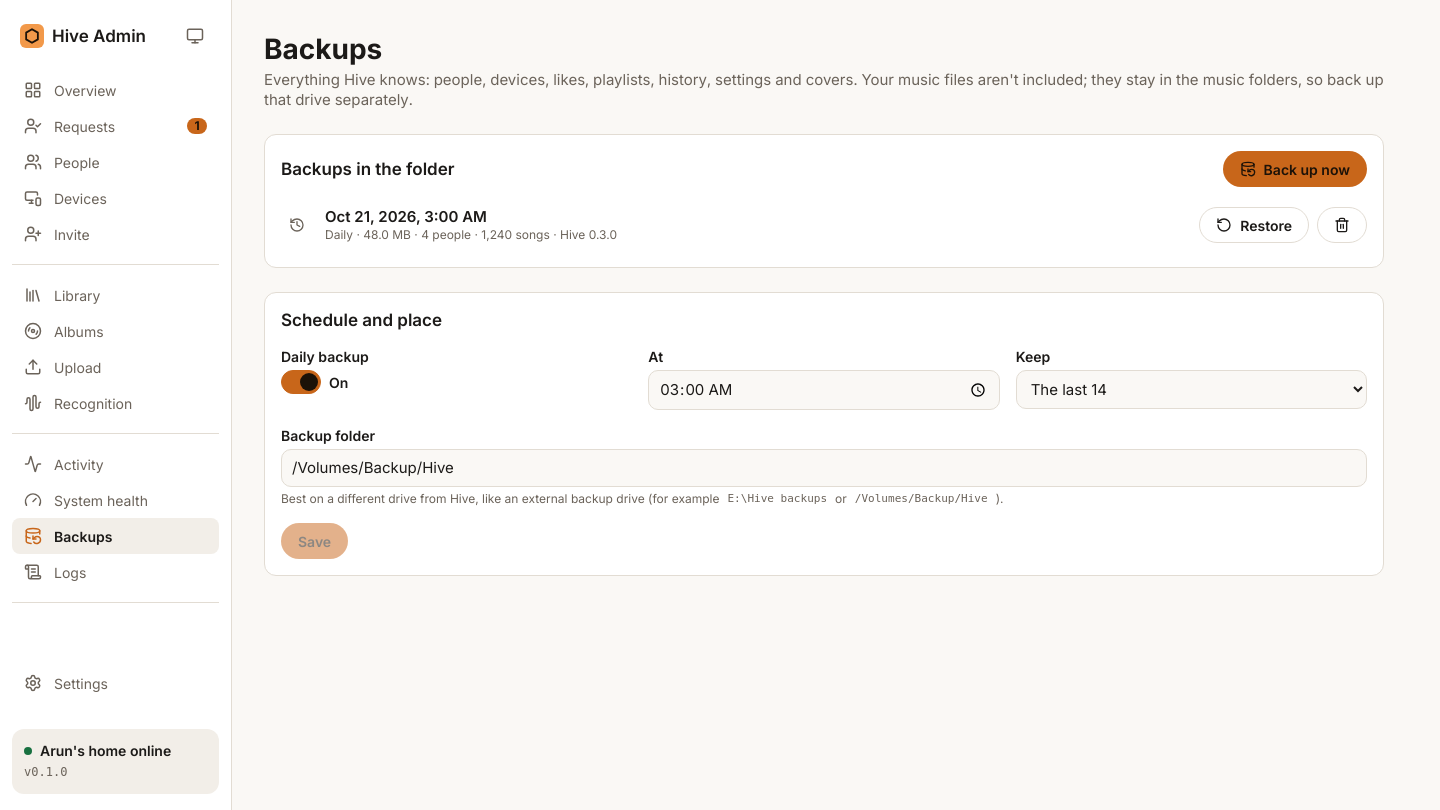
Test: Backups › lists backups and makes one now
The width and height of the screenshot is (1440, 810).
Expected: the text "Daily · 48.0 MB · 4 people · 1,240 songs · Hive 0.3.0" is shown, [325,227,617,242]
Step 1. Click the button "Back up now" → (1295, 169), box [1223,151,1367,187]
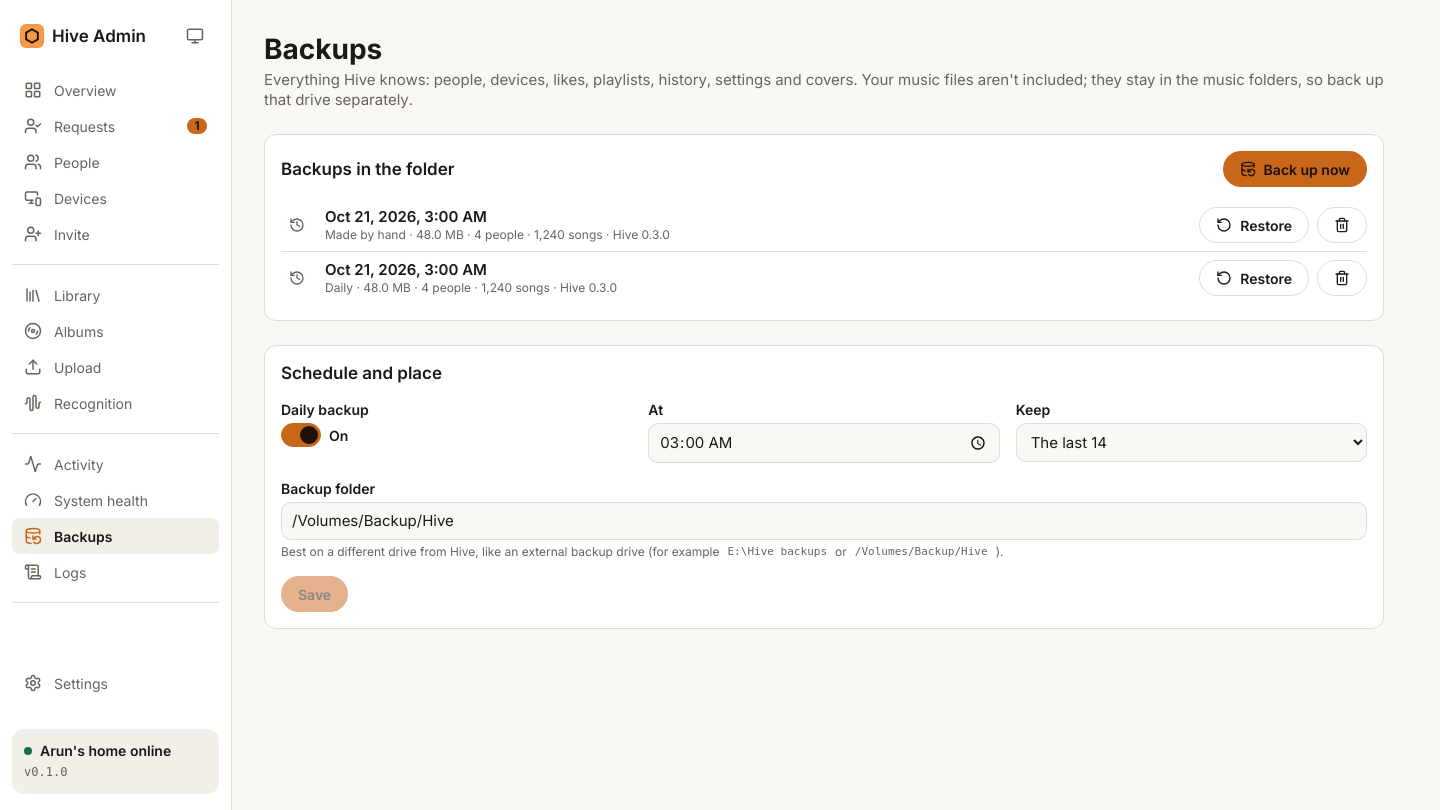
Expected: the text "Made by hand · 48.0 MB · 4 people · 1,240 songs · Hive 0.3.0" is shown, [325,227,670,242]
